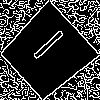I: (23, 27, 67, 69)
